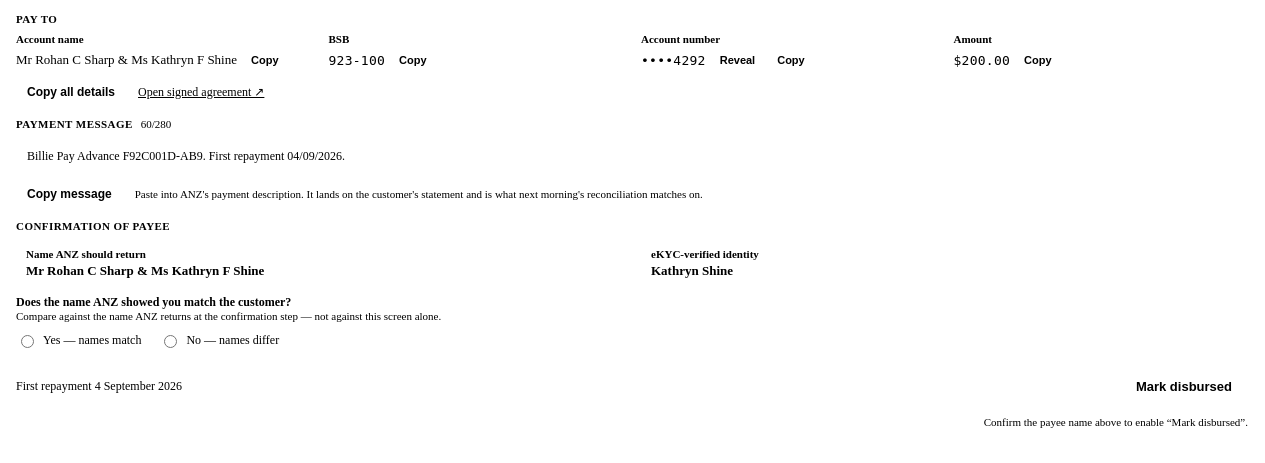
it: DisbursementPaymentPanel › stops the disbursement and says why when the names differ
Expected: the button with test id "panel-disburse" is shown, [1120,370,1248,402]
Click the radio button labelled "No — names differ" at x=171, y=342, box [164,335,177,348]
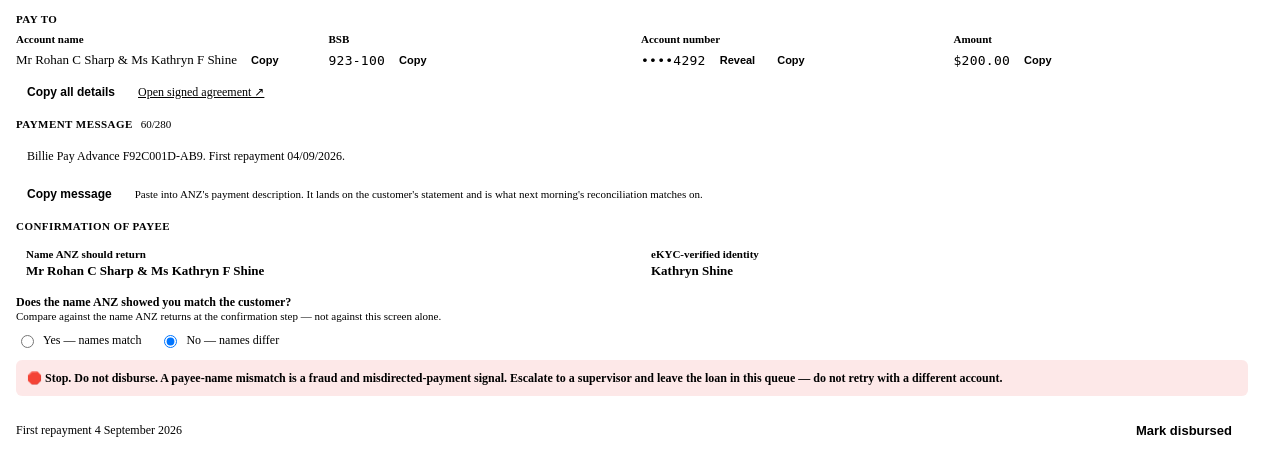
Expected: the button with test id "panel-disburse" is disabled, [1120,414,1248,446]
Now the message shows "Do not disburse", box [27,371,1002,385]
